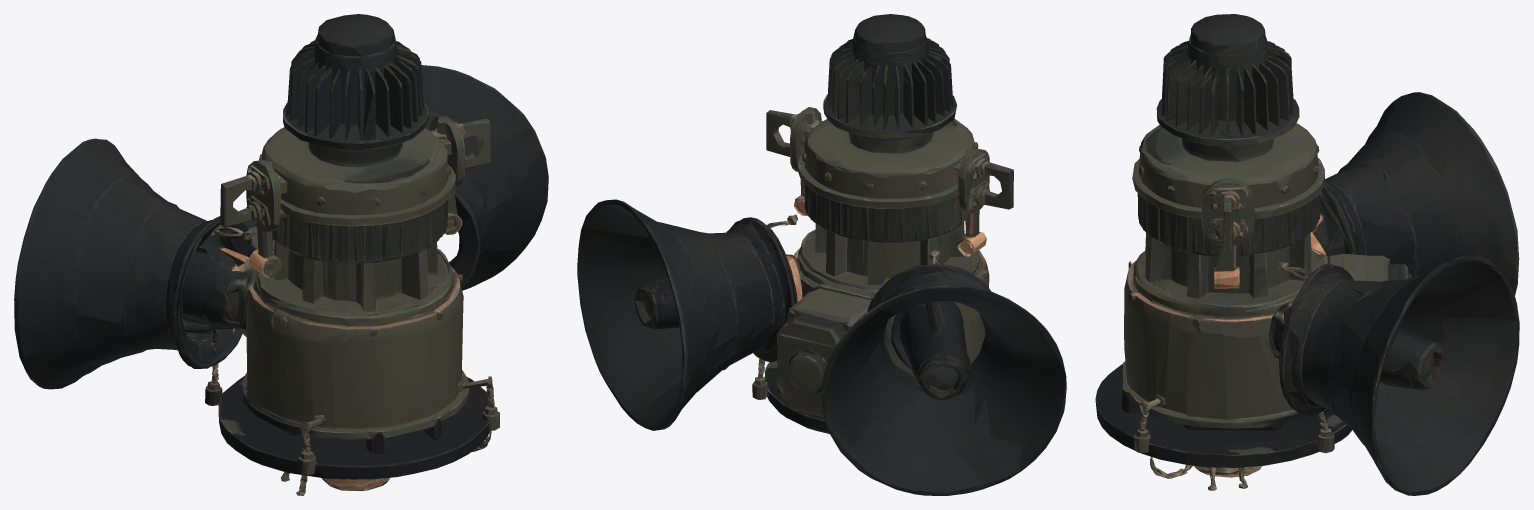
File: tower_siren.glb
3 renders of one model, left to right at view 1: azimuth 30°, elevation 25°; view 2: azimuth 150°, elevation 25°; view 3: azimuth 270°, elevation 25°, orthographic. The views are drawn at different scales.
Parts seen in each view (by area): view 1: tower_siren; view 2: tower_siren; view 3: tower_siren.
Part boxes in pixels (x1,y1,x2,y2): tower_siren: (14,14,548,495); tower_siren: (577,14,1066,495); tower_siren: (1095,14,1519,495).
Size of the model in its own units: 1.7 by 1.38 by 1.2.
1 material, 1 textured.
